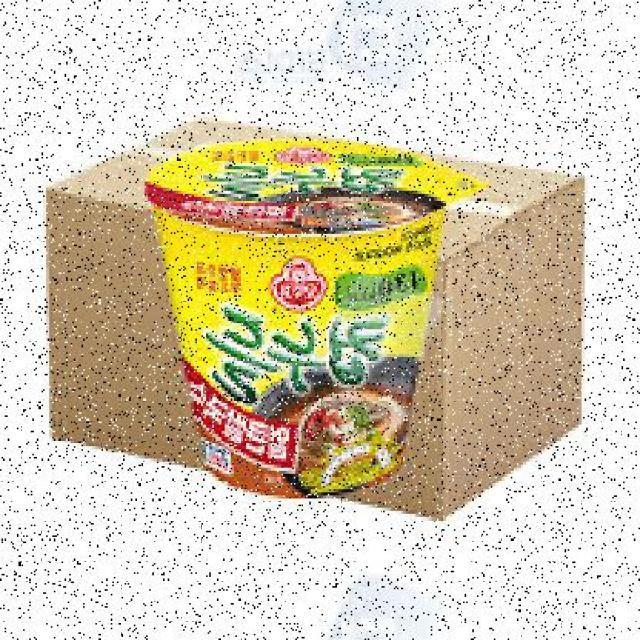Miscellaneous: (156, 140, 444, 494)
